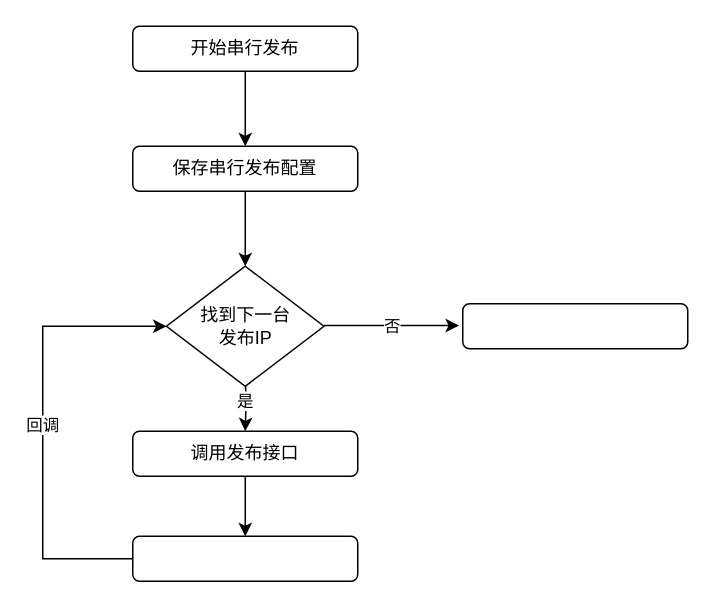
This 714x608 diagram has some shape labels left out. The centre of each missing label's shape, as x and y in pixels:
"发布" belongs at pixel 244 558.
"结束" belongs at pixel 574 325.
